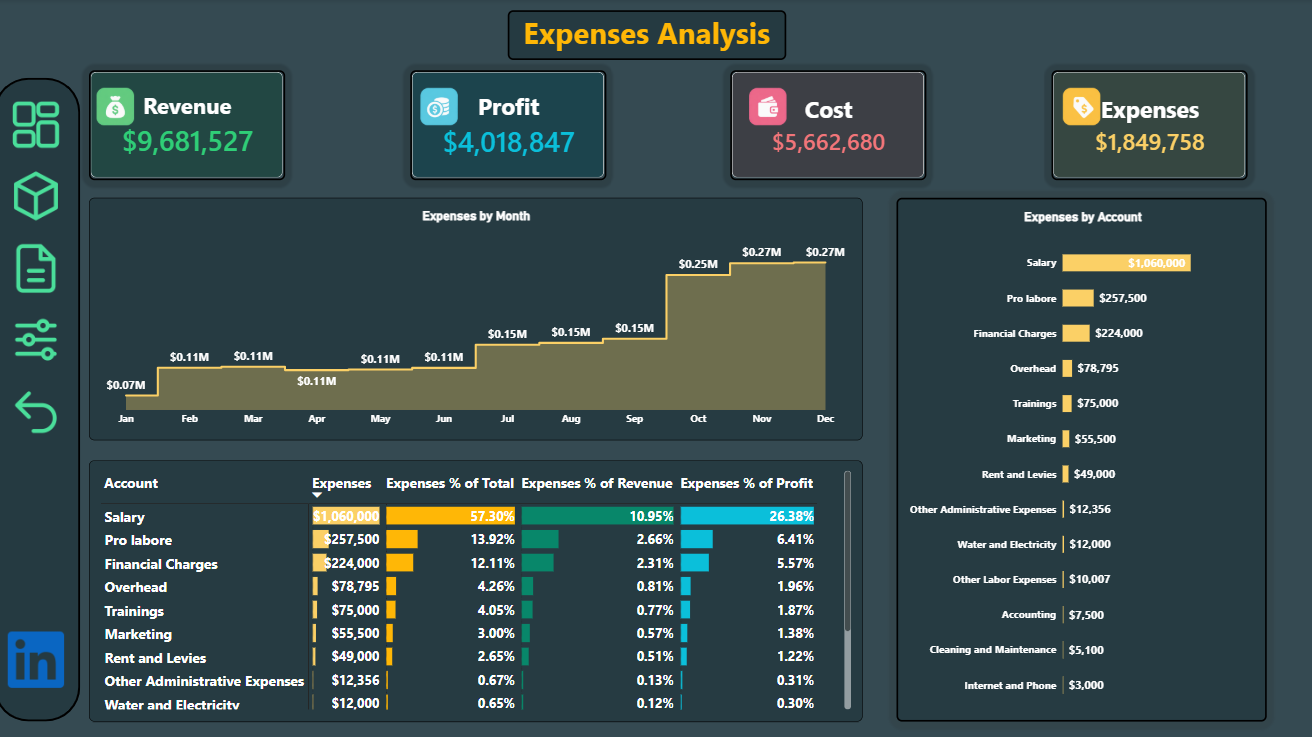

Layout of this report page (visuals, bound fields, positions):
{"tool":"powerbi","page":{"name":"Expenses Analysis","canvas":[1920,1080],"ordinal":2},"visuals":[{"type":"clusteredBarChart","fields":{"Category":["Expenses.Account"],"Y":["ExpensesAnalysis Measures.Expenses"]},"box":[1306.6,287.7,535.7,758.2],"z":0},{"type":"cardVisual","fields":{"Data":["overview measures.profit"]},"box":[602,103.2,284.1,159.3],"z":1000},{"type":"cardVisual","fields":{"Data":["overview measures.Cost"]},"box":[1066.5,103.2,284.1,159.3],"z":2000},{"type":"cardVisual","fields":{"Data":["ExpensesAnalysis Measures.Expenses"]},"box":[1531,103.2,284.1,159.3],"z":3000},{"type":"cardVisual","fields":{"Data":["overview measures.Revenue"]},"box":[137.5,103.2,284.1,159.3],"z":4000},{"type":"areaChart","fields":{"Category":["Calendar.Month"],"Y":["ExpensesAnalysis Measures.Expenses"]},"box":[137.5,287.7,1120.2,351.1],"z":5000},{"type":"pivotTable","fields":{"Rows":["Expenses.Account"],"Values":["ExpensesAnalysis Measures.Expenses","ExpensesAnalysis Measures.Expenses % of Total","ExpensesAnalysis Measures.Expenses % of Revenue","ExpensesAnalysis Measures.Expenses % of Profit"]},"box":[137.5,667.8,1120.2,378.2],"z":6000},{"type":"image","box":[121.2,128.5,108.6,54.3],"z":7000},{"type":"image","box":[589.9,128.5,108.6,54.3],"z":8000},{"type":"image","box":[1520.1,128.5,108.6,54.3],"z":9000},{"type":"image","box":[1065.9,128.5,108.6,54.3],"z":10000},{"type":"shape","box":[0,114,124.9,932],"z":11000},{"type":"image","box":[20.3,915,81.4,81.4],"z":12000},{"type":"image","box":[20.3,140.4,81.4,81.4],"z":13000},{"type":"image","box":[20.3,244.7,81.4,81.4],"z":14000},{"type":"image","box":[19.9,557.4,81.4,81.4],"z":15000},{"type":"image","box":[19.9,348.9,81.4,81.4],"z":16000},{"type":"image","box":[19.9,453.1,81.4,81.4],"z":17000},{"type":"textbox","box":[743.8,16.3,403.6,72.4],"z":17001}]}

Visuals, with their boxes on the page's 1920x1080 design canvas (x1, y1, x2, y2). These are canvas units, not pixel positions in the 1312x737 screenshot, which may show the page scaled, cropped or inside an application window:
clusteredBarChart - Expenses.Account x ExpensesAnalysis Measures.Expenses: left=1307, top=288, right=1842, bottom=1046
cardVisual - overview measures.profit: left=602, top=103, right=886, bottom=262
cardVisual - overview measures.Cost: left=1066, top=103, right=1351, bottom=262
cardVisual - ExpensesAnalysis Measures.Expenses: left=1531, top=103, right=1815, bottom=262
cardVisual - overview measures.Revenue: left=138, top=103, right=422, bottom=262
areaChart - Calendar.Month x ExpensesAnalysis Measures.Expenses: left=138, top=288, right=1258, bottom=639
pivotTable - Expenses.Account x ExpensesAnalysis Measures.Expenses: left=138, top=668, right=1258, bottom=1046
image: left=121, top=128, right=230, bottom=183
image: left=590, top=128, right=698, bottom=183
image: left=1520, top=128, right=1629, bottom=183
image: left=1066, top=128, right=1174, bottom=183
shape: left=0, top=114, right=125, bottom=1046
image: left=20, top=915, right=102, bottom=996
image: left=20, top=140, right=102, bottom=222
image: left=20, top=245, right=102, bottom=326
image: left=20, top=557, right=101, bottom=639
image: left=20, top=349, right=101, bottom=430
image: left=20, top=453, right=101, bottom=534
textbox: left=744, top=16, right=1147, bottom=89
